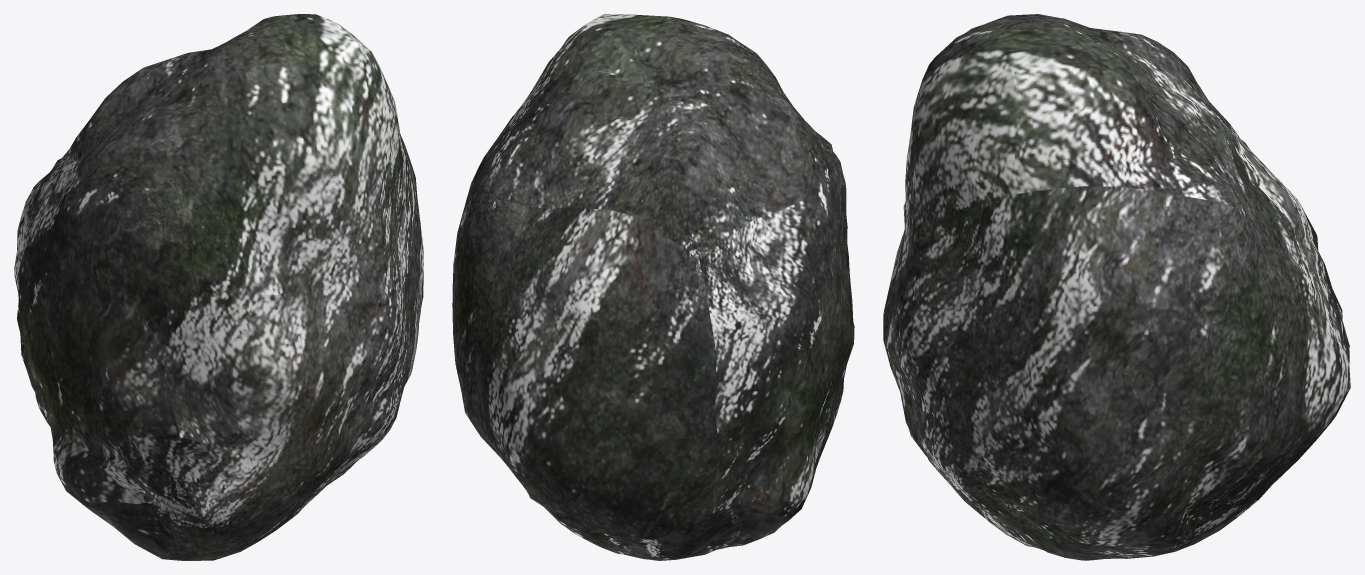
The model's file is rock_5.fbx.
3 views of the same model, side by side, from view 1: azimuth 30°, elevation 25°; view 2: azimuth 150°, elevation 25°; view 3: azimuth 270°, elevation 25° (orthographic). The views are drawn at different scales.
Parts seen in each view (by area): view 1: PolySphere; view 2: PolySphere; view 3: PolySphere.
Boxes of the visible parts, x1,y1,x2,y2 form: PolySphere: (14,14,423,560); PolySphere: (452,14,854,560); PolySphere: (883,14,1350,560).
Bounding box in the file's own units: 1.56 × 2.07 × 1.61.
